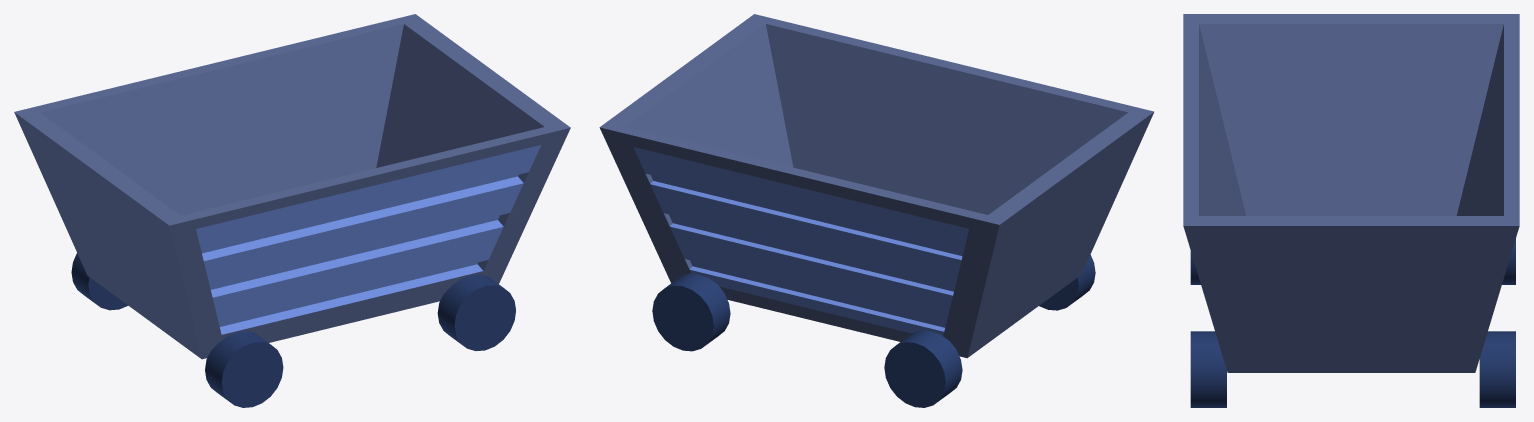
The model's file is Minecart.fbx.
3 renders of one model, left to right at view 1: azimuth 30°, elevation 25°; view 2: azimuth 150°, elevation 25°; view 3: azimuth 270°, elevation 25°, orthographic. The views are drawn at different scales.
Visible parts, largest first — view 1: cart, wheels; view 2: cart, wheels; view 3: cart, wheels.
Part boxes in pixels (<box>): cart: <box>14,14,570,359</box>; wheels: <box>71,253,515,407</box>; cart: <box>599,14,1153,358</box>; wheels: <box>652,255,1095,407</box>; cart: <box>1183,14,1519,372</box>; wheels: <box>1190,239,1515,407</box>.
Bounding box in the file's own units: 3.31 × 1.61 × 2.22.
